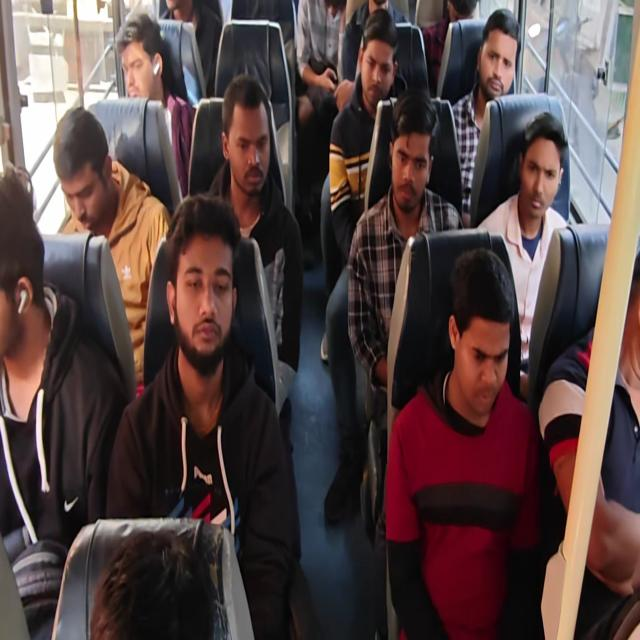person: (1, 1, 638, 638), (104, 192, 301, 638), (384, 246, 545, 638), (0, 162, 129, 638), (321, 9, 402, 524), (202, 73, 304, 447), (538, 246, 639, 599), (347, 86, 463, 393), (52, 106, 172, 397), (475, 110, 569, 396), (328, 8, 399, 261), (450, 8, 520, 226), (115, 11, 194, 198), (88, 528, 215, 638), (295, 0, 347, 126), (160, 0, 222, 96), (340, 0, 409, 82), (421, 0, 479, 96)
